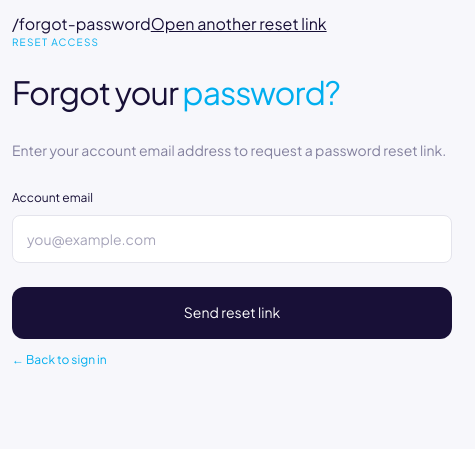
Scenario: password recovery screens › validates email, focuses invalid input and confirms requests generically
The width and height of the screenshot is (475, 449).
Click the button "Send reset link" at (232, 313), box [12,287,452,339]
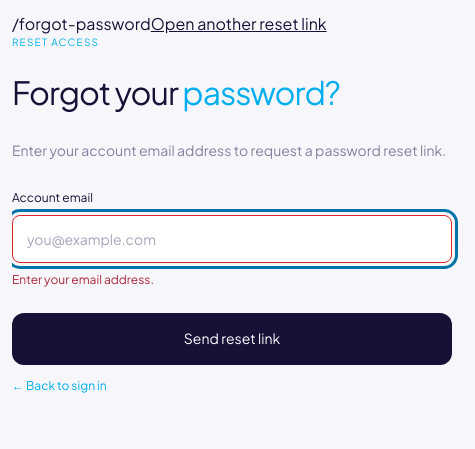
Expected: the text "Enter your email address." is shown, [12,272,154,287]
Type "invalid" into the field labelled "Account email" at (232, 239), box [12,215,452,263]
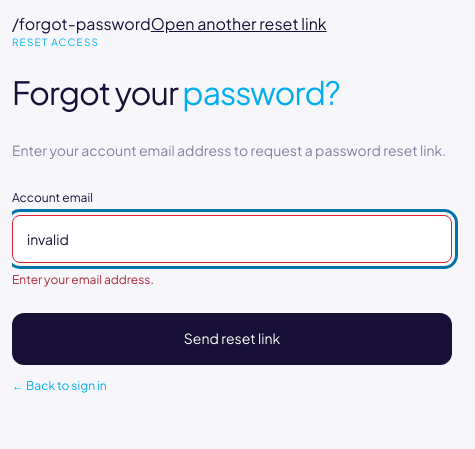
Click the button "Send reset link" at (232, 339), box [12,313,452,365]
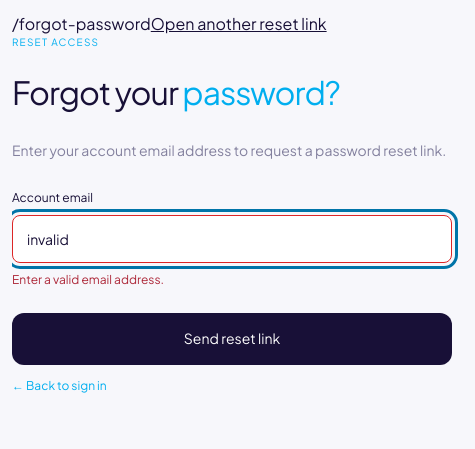
Expected: the text "Enter a valid email address." is shown, [12,272,164,287]
Replace the text in the field labelled "Account email" with "staff@example.com" at (232, 239), box [12,215,452,263]
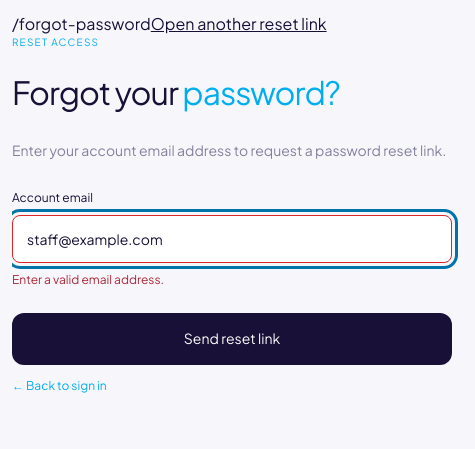
Click the button "Send reset link" at (232, 339), box [12,313,452,365]
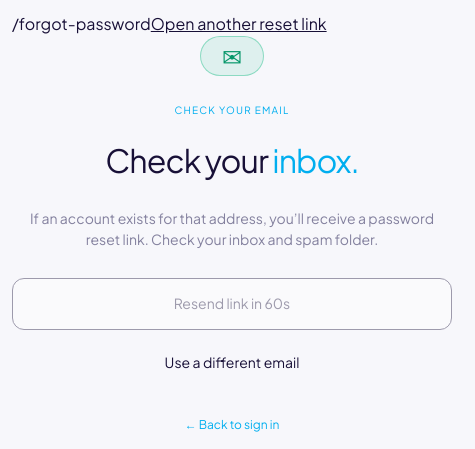
Expected: the heading "Check your inbox." is shown, [105,140,359,180]
Expected: the text "If an account exists for that address" is shown, [30,209,434,248]
Expected: the button "Resend link in 60s" is disabled, [12,278,452,330]
Click the button "Use a different email" at (232, 363), box [12,342,452,384]
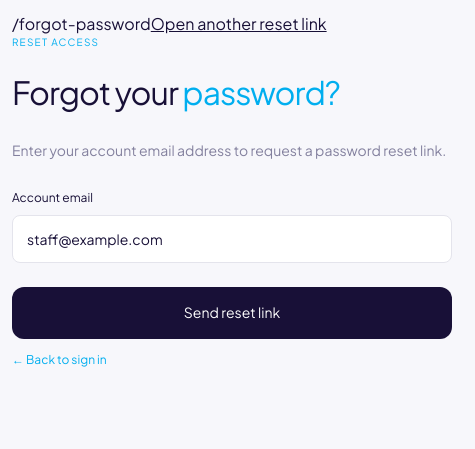
Expected: the field labelled "Account email" is shown, [12,215,452,263]
